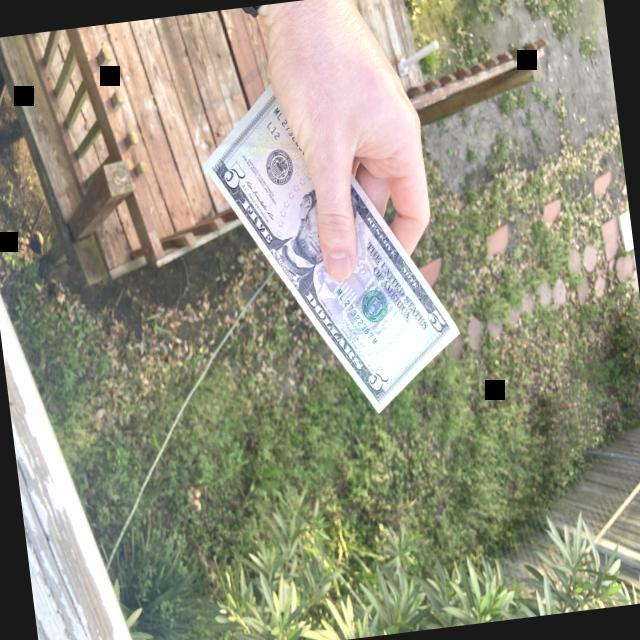five: (202, 73, 459, 413)
